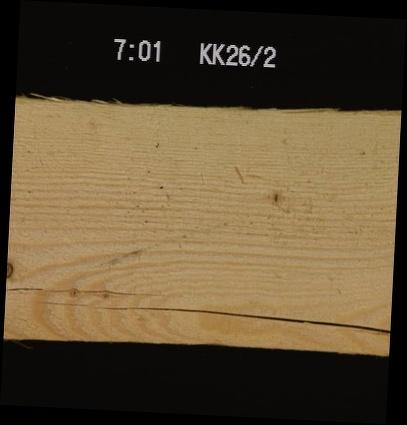dry_knot: (6, 260, 14, 279)
small_knot: (266, 187, 285, 206)
split: (31, 306, 390, 328), (6, 285, 163, 296)
